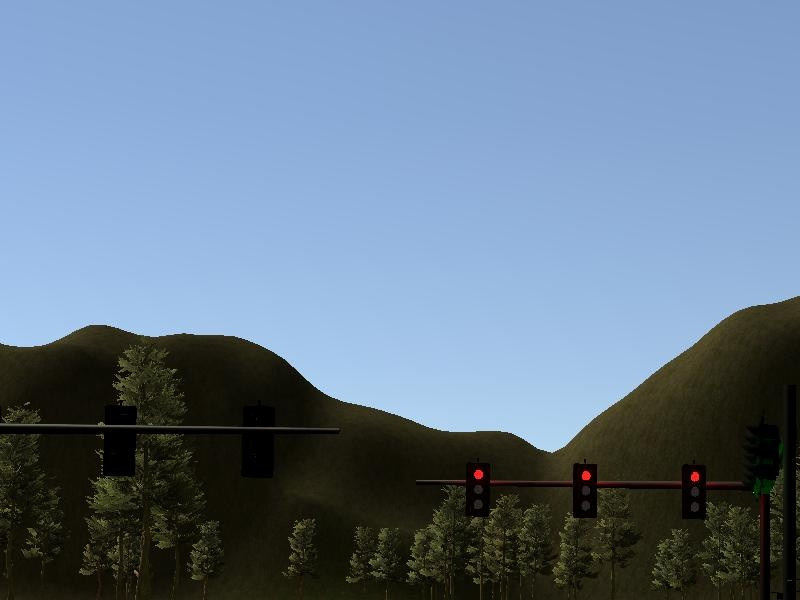Red: (571, 461, 600, 520), (680, 462, 708, 521), (464, 461, 491, 518)
